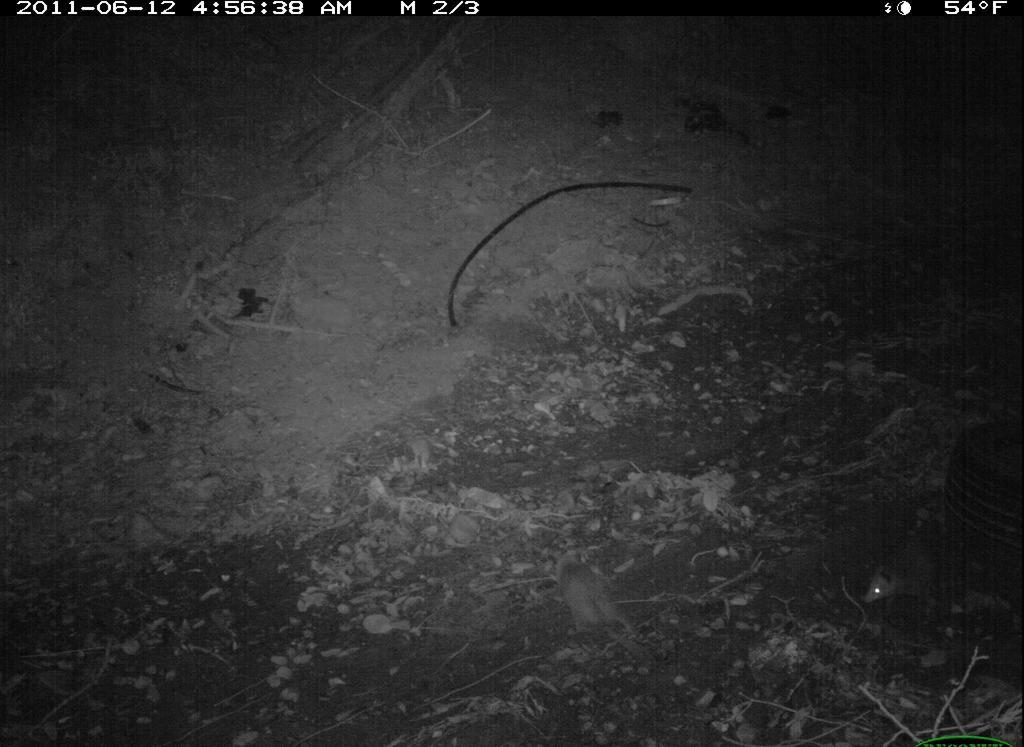opossum: (545, 542, 656, 652)
